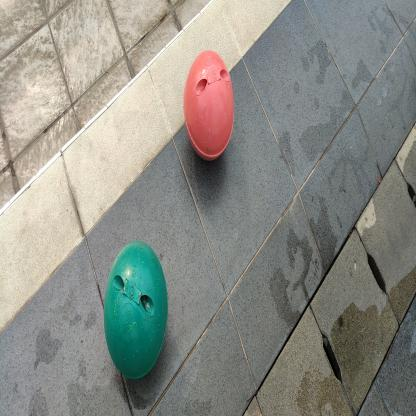green_buoy: (102, 240, 170, 382)
red_buoy: (182, 48, 236, 165)
